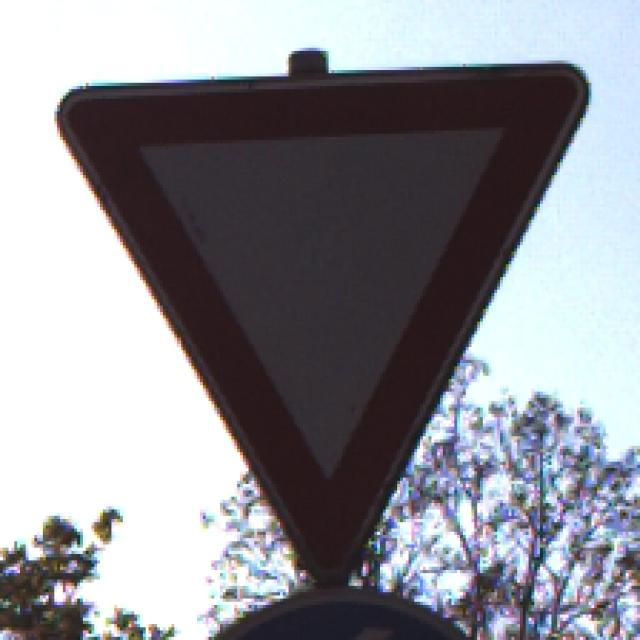give way: (49, 61, 602, 591)
